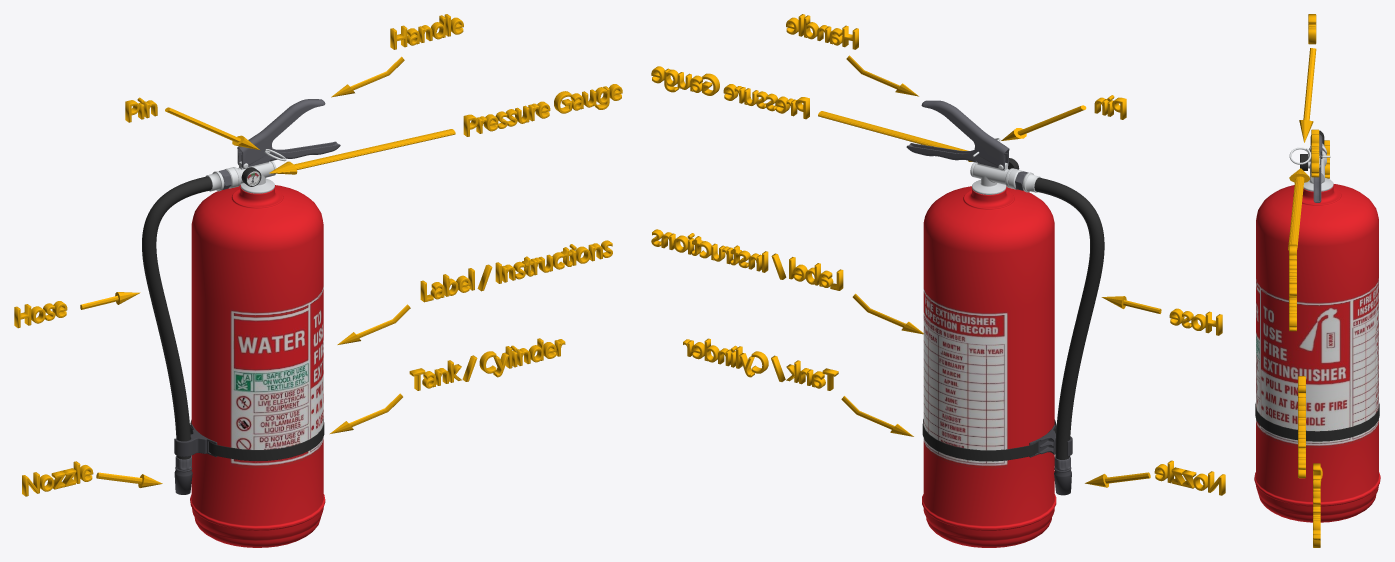
The model's file is fireex3dFinal.glb.
3 views of the same model, side by side, from view 1: azimuth 30°, elevation 25°; view 2: azimuth 150°, elevation 25°; view 3: azimuth 270°, elevation 25° (orthographic). The views are drawn at different scales.
Parts seen in each view (by area): view 1: Fire extinguisher, Label_Trigger.003, Label_Trigger.002, Label_Trigger, Arrow_Trigger, Label_Trigger.001, Label_Nozzle, Label_Hose; view 2: Fire extinguisher, Label_Trigger.003, Label_Trigger.002, Label_Trigger, Label_Trigger.001, Label_Nozzle, Arrow_Trigger, Label_Hose; view 3: Fire extinguisher, Arrow_Trigger, Label_Trigger.003, Label_Trigger.002, Arrow_Pin, Label_Trigger, Label_Trigger.001, Label_Pin.
Part boxes in pixels (x1=…): Fire extinguisher: x1=142, y1=99, x2=340, y2=547; Label_Trigger.003: x1=420, y1=240, x2=612, y2=302; Label_Trigger.002: x1=463, y1=84, x2=622, y2=136; Label_Trigger: x1=409, y1=338, x2=565, y2=390; Arrow_Trigger: x1=269, y1=129, x2=455, y2=174; Label_Trigger.001: x1=390, y1=14, x2=463, y2=49; Label_Nozzle: x1=22, y1=461, x2=93, y2=496; Label_Hose: x1=14, y1=301, x2=67, y2=328; Fire extinguisher: x1=906, y1=100, x2=1104, y2=547; Label_Trigger.003: x1=651, y1=229, x2=843, y2=290; Label_Trigger.002: x1=651, y1=66, x2=809, y2=119; Label_Trigger: x1=683, y1=338, x2=838, y2=390; Label_Trigger.001: x1=786, y1=14, x2=858, y2=49; Label_Nozzle: x1=1154, y1=460, x2=1225, y2=495; Arrow_Trigger: x1=818, y1=111, x2=972, y2=161; Label_Hose: x1=1169, y1=308, x2=1222, y2=335; Fire extinguisher: x1=1254, y1=130, x2=1380, y2=522; Arrow_Trigger: x1=1288, y1=168, x2=1310, y2=250; Label_Trigger.003: x1=1298, y1=376, x2=1305, y2=478; Label_Trigger.002: x1=1289, y1=244, x2=1296, y2=331; Arrow_Pin: x1=1299, y1=48, x2=1316, y2=142; Label_Trigger: x1=1313, y1=463, x2=1320, y2=547; Label_Trigger.001: x1=1311, y1=129, x2=1319, y2=177; Label_Pin: x1=1308, y1=14, x2=1316, y2=44.
Size of the model in its own units: 3.56 by 2.7 by 0.7105.
Materials: 14 (2 with a texture image).
